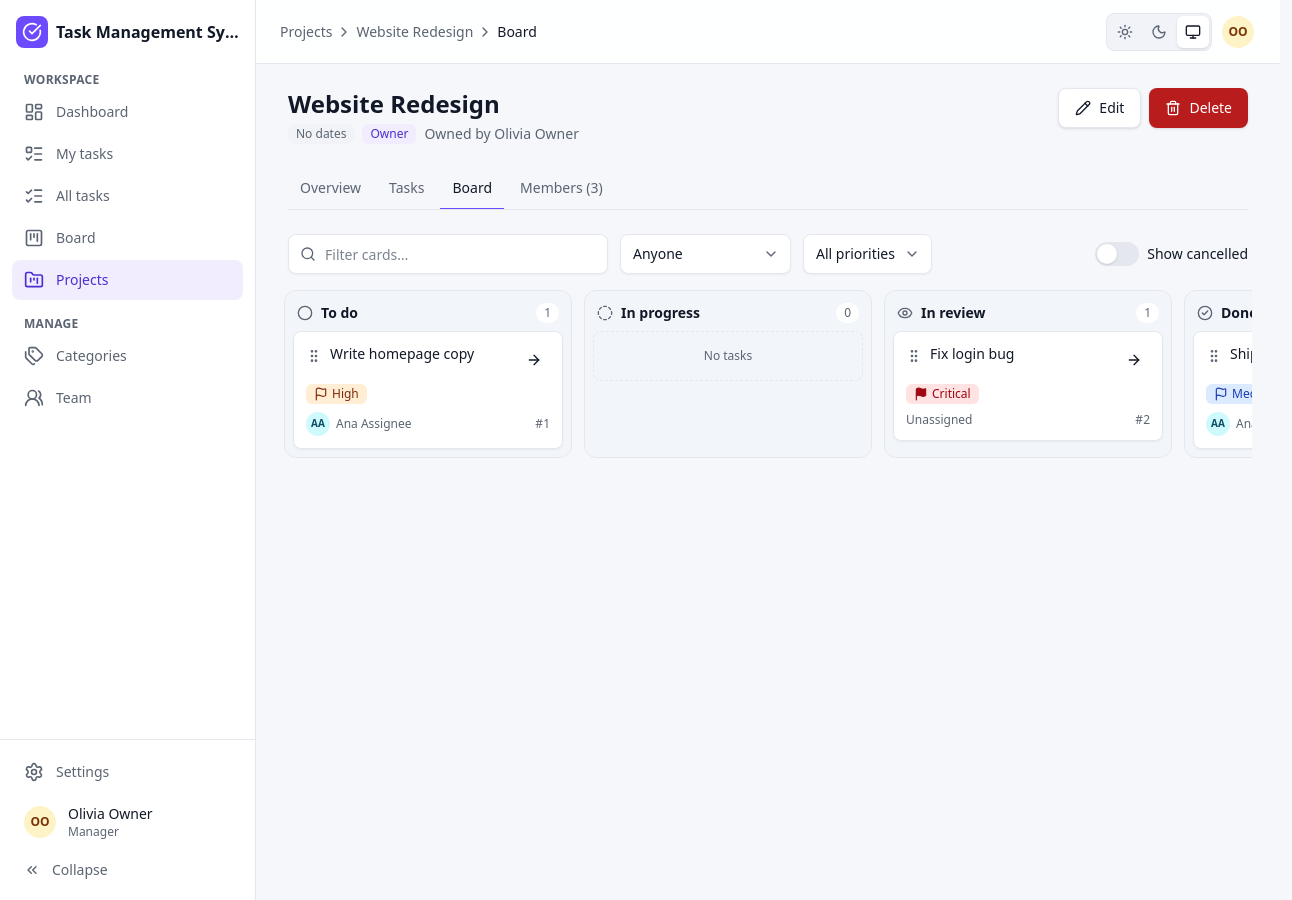
Test: Project board › puts the card back and explains when the API refuses the move (409)
This screenshot has width=1292, height=900.
Expected: the link "Fix login bug" is shown, [930,344,1014,363]
Click the button named "Move Fix login bug to…": (1134, 360) [1118,344,1150,376]
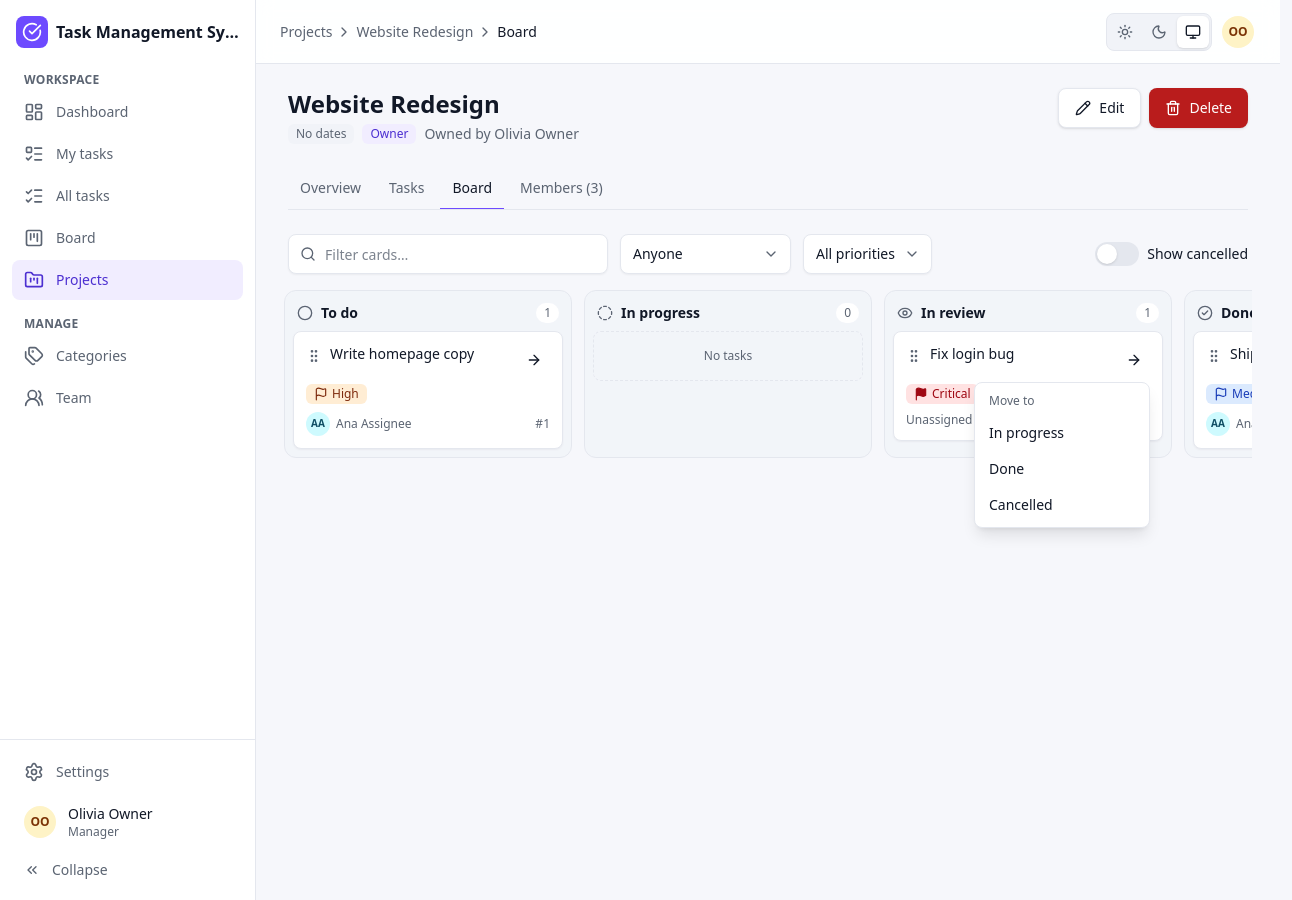
Click the menu item "Done": (1007, 468) [989,459,1024,478]
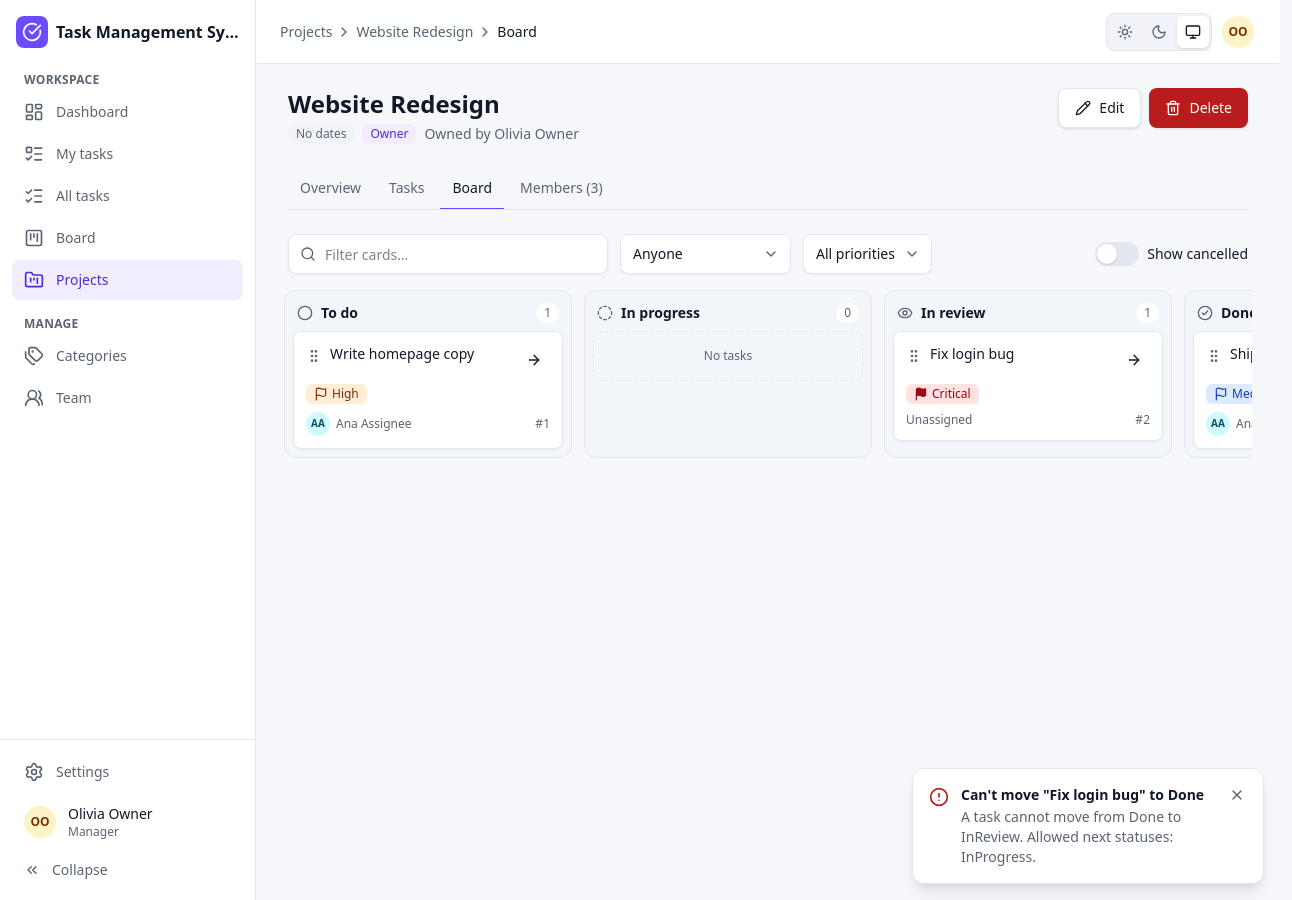
Expected: the text "Can't move \"Fix login bug\" to Done" is shown, [961,785,1215,805]
